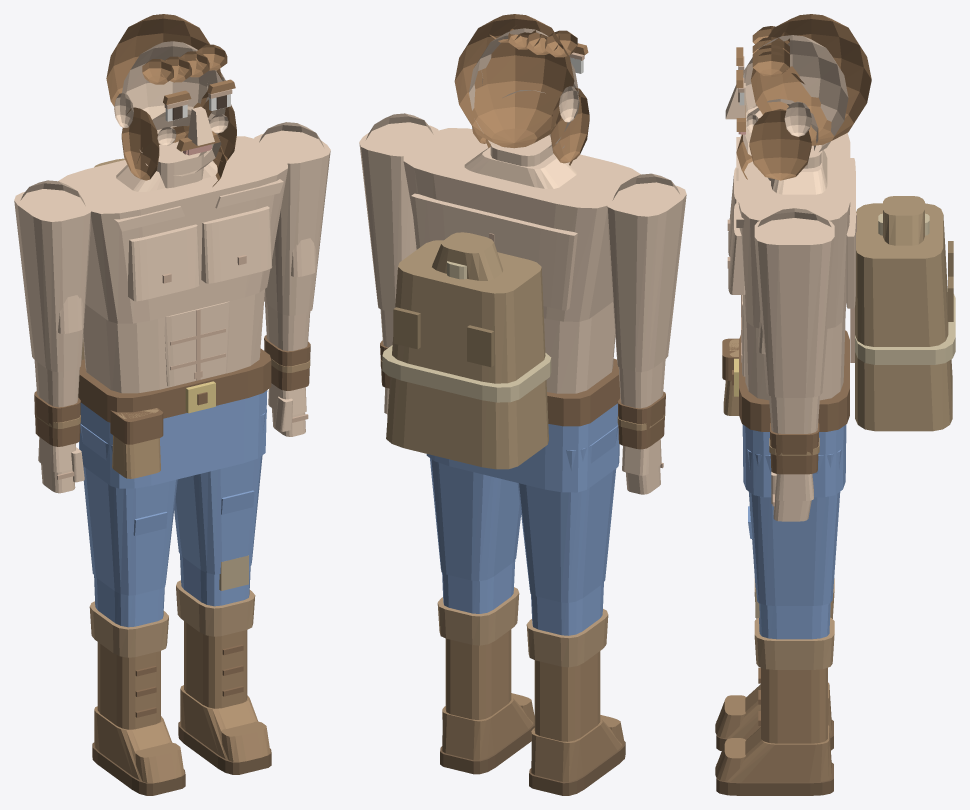
File: villager_male.glb
The picture shows the model from 3 angles, left to right: view 1: azimuth 30°, elevation 25°; view 2: azimuth 150°, elevation 25°; view 3: azimuth 270°, elevation 25°; orthographic projection. The views are drawn at different scales.
Visible parts, largest first — view 1: Chest, Arm.R, Hips, Leg.R, Belly, Arm.L, Leg.L, Belt, Chest.Pec.R, Chest.Pec.L, Leg.L.Lower.Shaft, Leg.R.Lower.Shaft (+37 smaller); view 2: Load, Chest, Arm.R, Head.Hair, Leg.R, Leg.L, Arm.L, Back.Blades, Hips, Leg.L.Lower.Shaft, Leg.R.Lower.Shaft, Belly (+23 smaller); view 3: Load, Arm.L, Leg.L, Chest, Head.Hair, Leg.L.Lower.Shaft, Leg.L.Lower.Boot, Head, Hips, Head.Beard.Side.L, Belly, Belt (+21 smaller).
Boxes of the visible parts, <box> form: Chest: <box>58,136,287,323</box>; Arm.R: <box>14,189,91,372</box>; Hips: <box>79,390,267,488</box>; Leg.R: <box>80,424,177,595</box>; Belly: <box>83,289,264,393</box>; Arm.L: <box>254,130,330,315</box>; Leg.L: <box>174,409,266,574</box>; Belt: <box>78,348,271,422</box>; Chest.Pec.R: <box>128,224,199,301</box>; Chest.Pec.L: <box>201,206,272,283</box>; Leg.L.Lower.Shaft: <box>184,621,247,708</box>; Leg.R.Lower.Shaft: <box>97,642,160,729</box>; Load: <box>386,240,548,469</box>; Chest: <box>403,128,640,321</box>; Arm.R: <box>606,182,686,372</box>; Head.Hair: <box>454,14,574,148</box>; Leg.R: <box>517,425,618,602</box>; Leg.L: <box>430,458,521,581</box>; Arm.L: <box>359,122,438,312</box>; Back.Blades: <box>411,193,577,310</box>; Hips: <box>426,403,619,492</box>; Leg.L.Lower.Shaft: <box>445,629,511,719</box>; Leg.R.Lower.Shaft: <box>534,651,600,741</box>; Belly: <box>544,302,615,393</box>; Load: <box>855,203,952,431</box>; Arm.L: <box>754,218,834,397</box>; Leg.L: <box>747,449,841,605</box>; Chest: <box>738,133,850,328</box>; Head.Hair: <box>751,14,871,145</box>; Leg.L.Lower.Shaft: <box>761,667,827,743</box>; Leg.L.Lower.Boot: <box>727,725,831,782</box>; Head: <box>743,35,848,151</box>; Hips: <box>742,424,846,497</box>; Head.Beard.Side.L: <box>749,109,811,180</box>; Belly: <box>743,314,845,400</box>; Belt: <box>739,330,849,431</box>.
Bounding box in the file's own units: 0.748 × 1.76 × 0.516.
